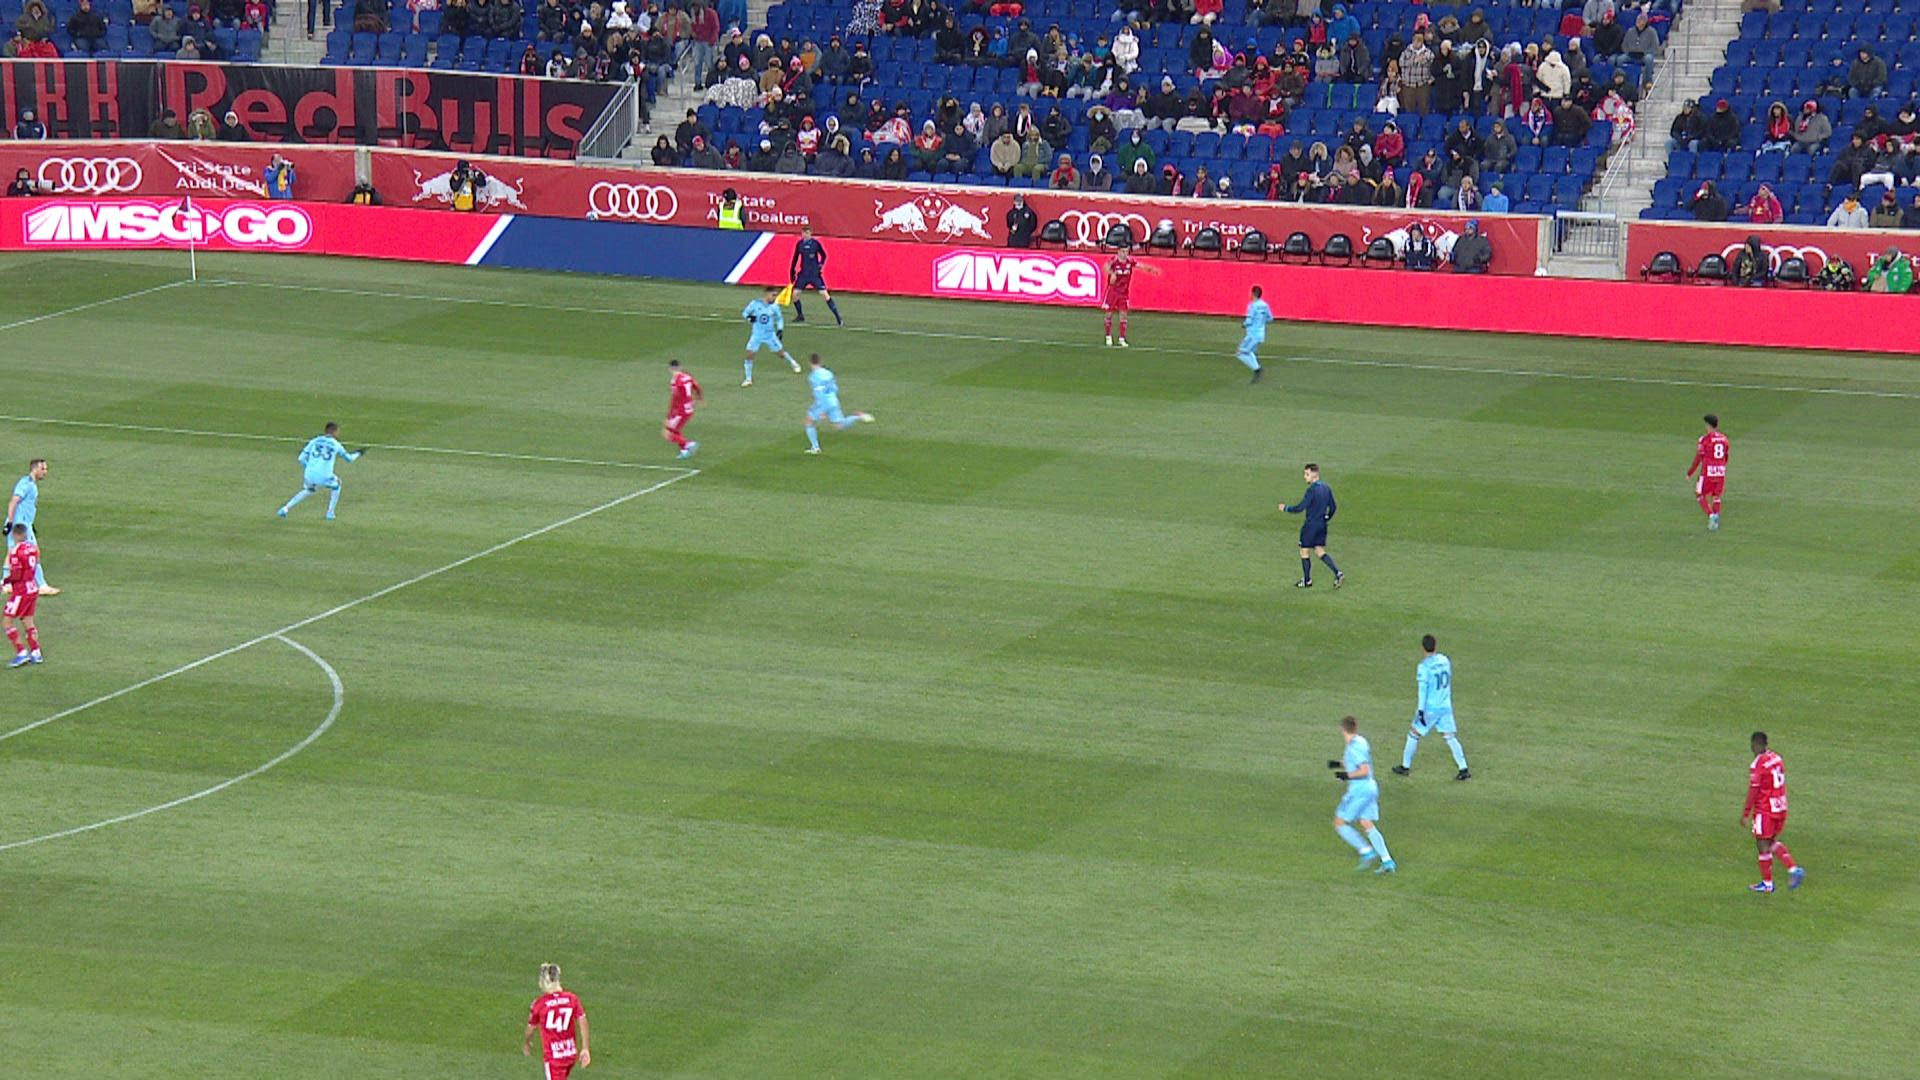football: (1160, 221, 1170, 232)
